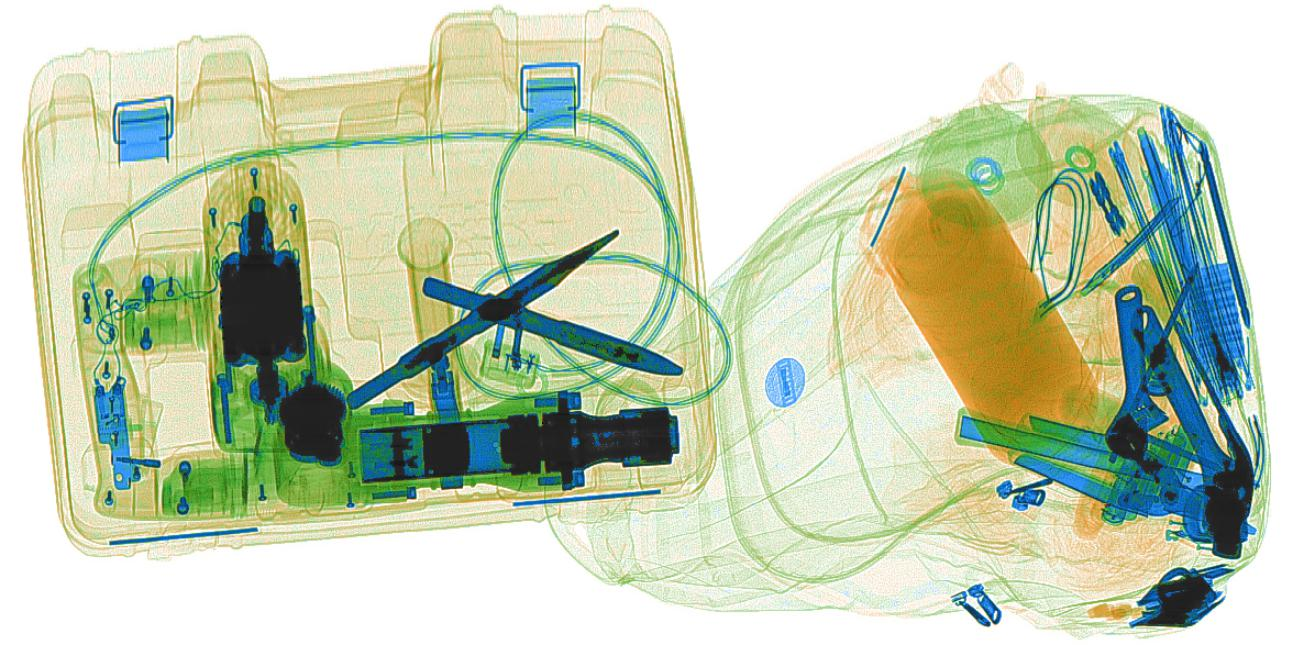battery: (1101, 423, 1201, 525), (1176, 260, 1246, 364)
knife: (1080, 190, 1182, 294)
scissors: (1006, 412, 1256, 536)
